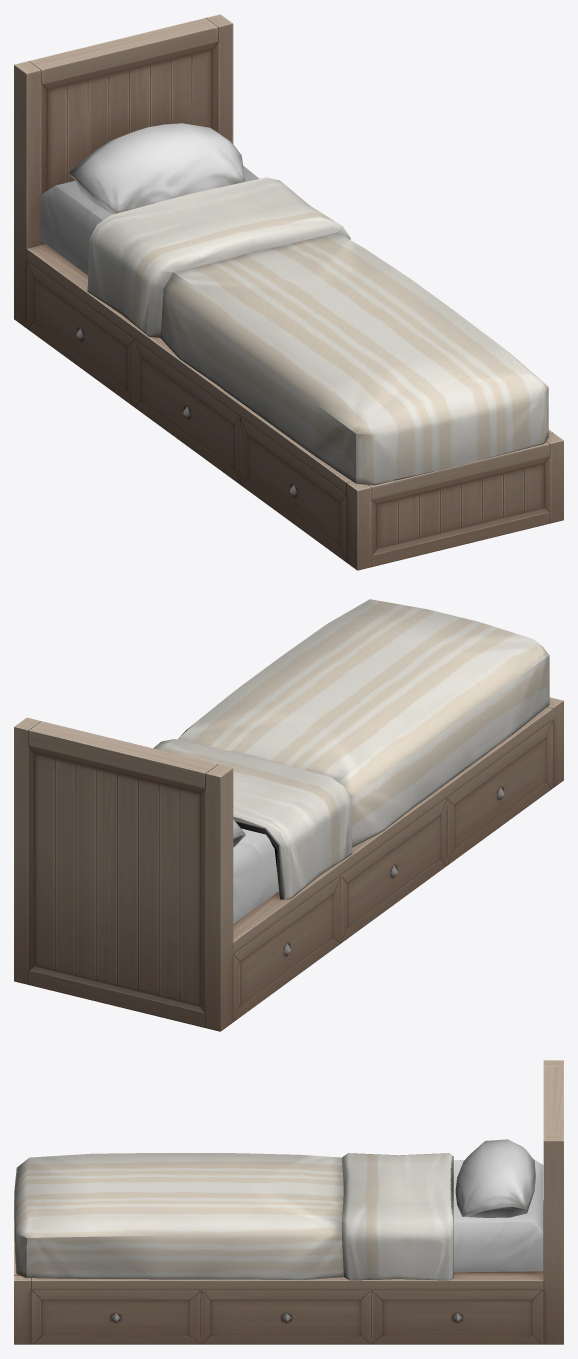
File: cama.fbx
3 views of the same model, one above another, from view 1: azimuth 30°, elevation 25°; view 2: azimuth 150°, elevation 25°; view 3: azimuth 270°, elevation 25° (orthographic). The views are drawn at different scales.
Parts seen in each view (by area): view 1: cama; view 2: cama; view 3: cama.
Boxes of the visible parts, <box> form: cama: <box>14,14,563,570</box>; cama: <box>14,599,563,1031</box>; cama: <box>14,1060,563,1344</box>.
Bounding box in the file's own units: 85.11 × 96.44 × 236.
1 material, 1 textured.
